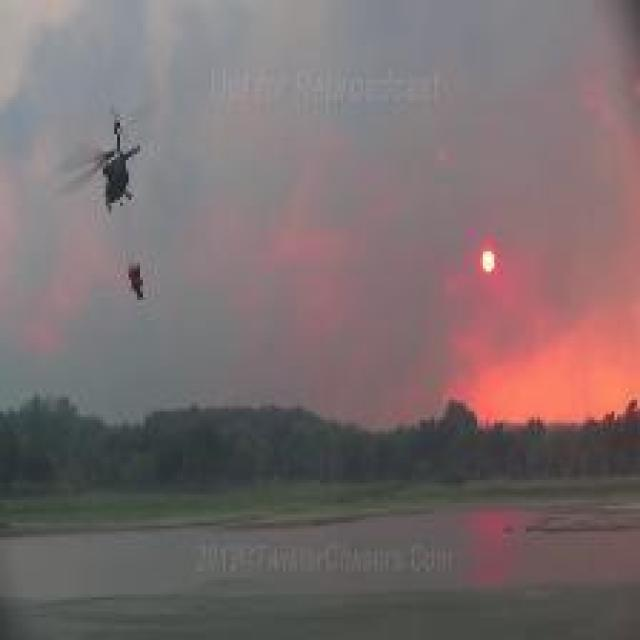other: (394, 303, 634, 423), (464, 235, 506, 284)
